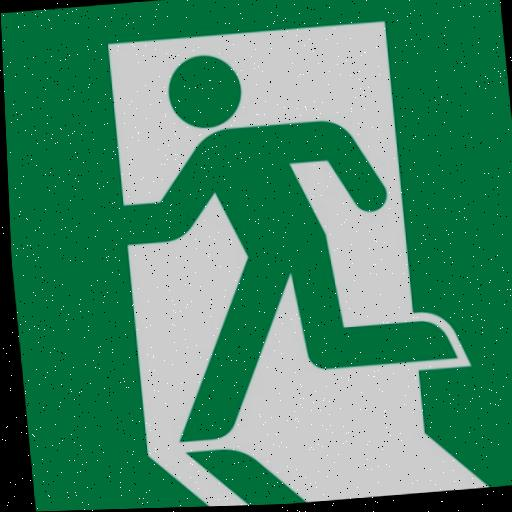emergency_exit: (2, 1, 510, 509)
